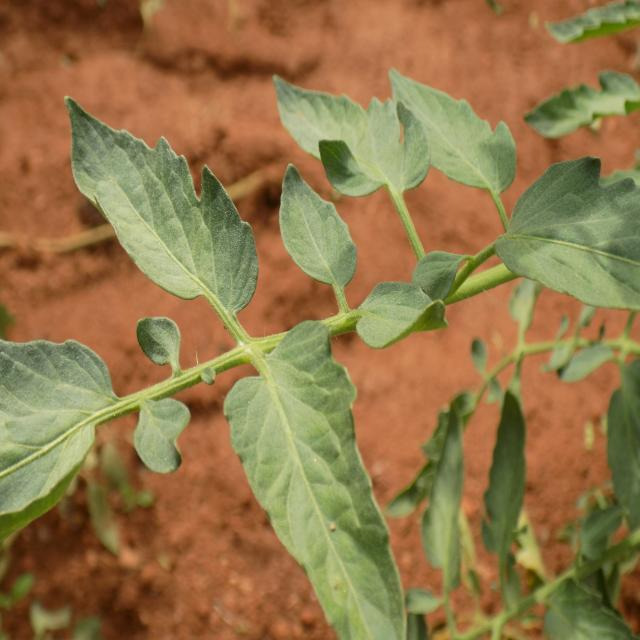tomato_healthy: (218, 316, 414, 640), (61, 95, 259, 316), (270, 70, 428, 195), (375, 67, 524, 190), (278, 163, 361, 300)
